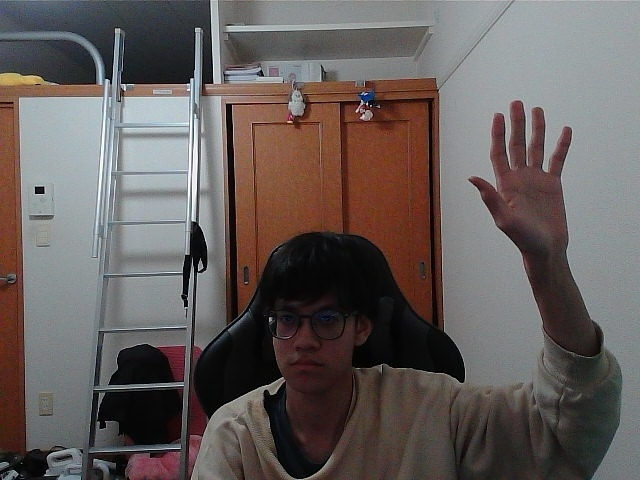open_palm: (476, 107, 567, 244)
